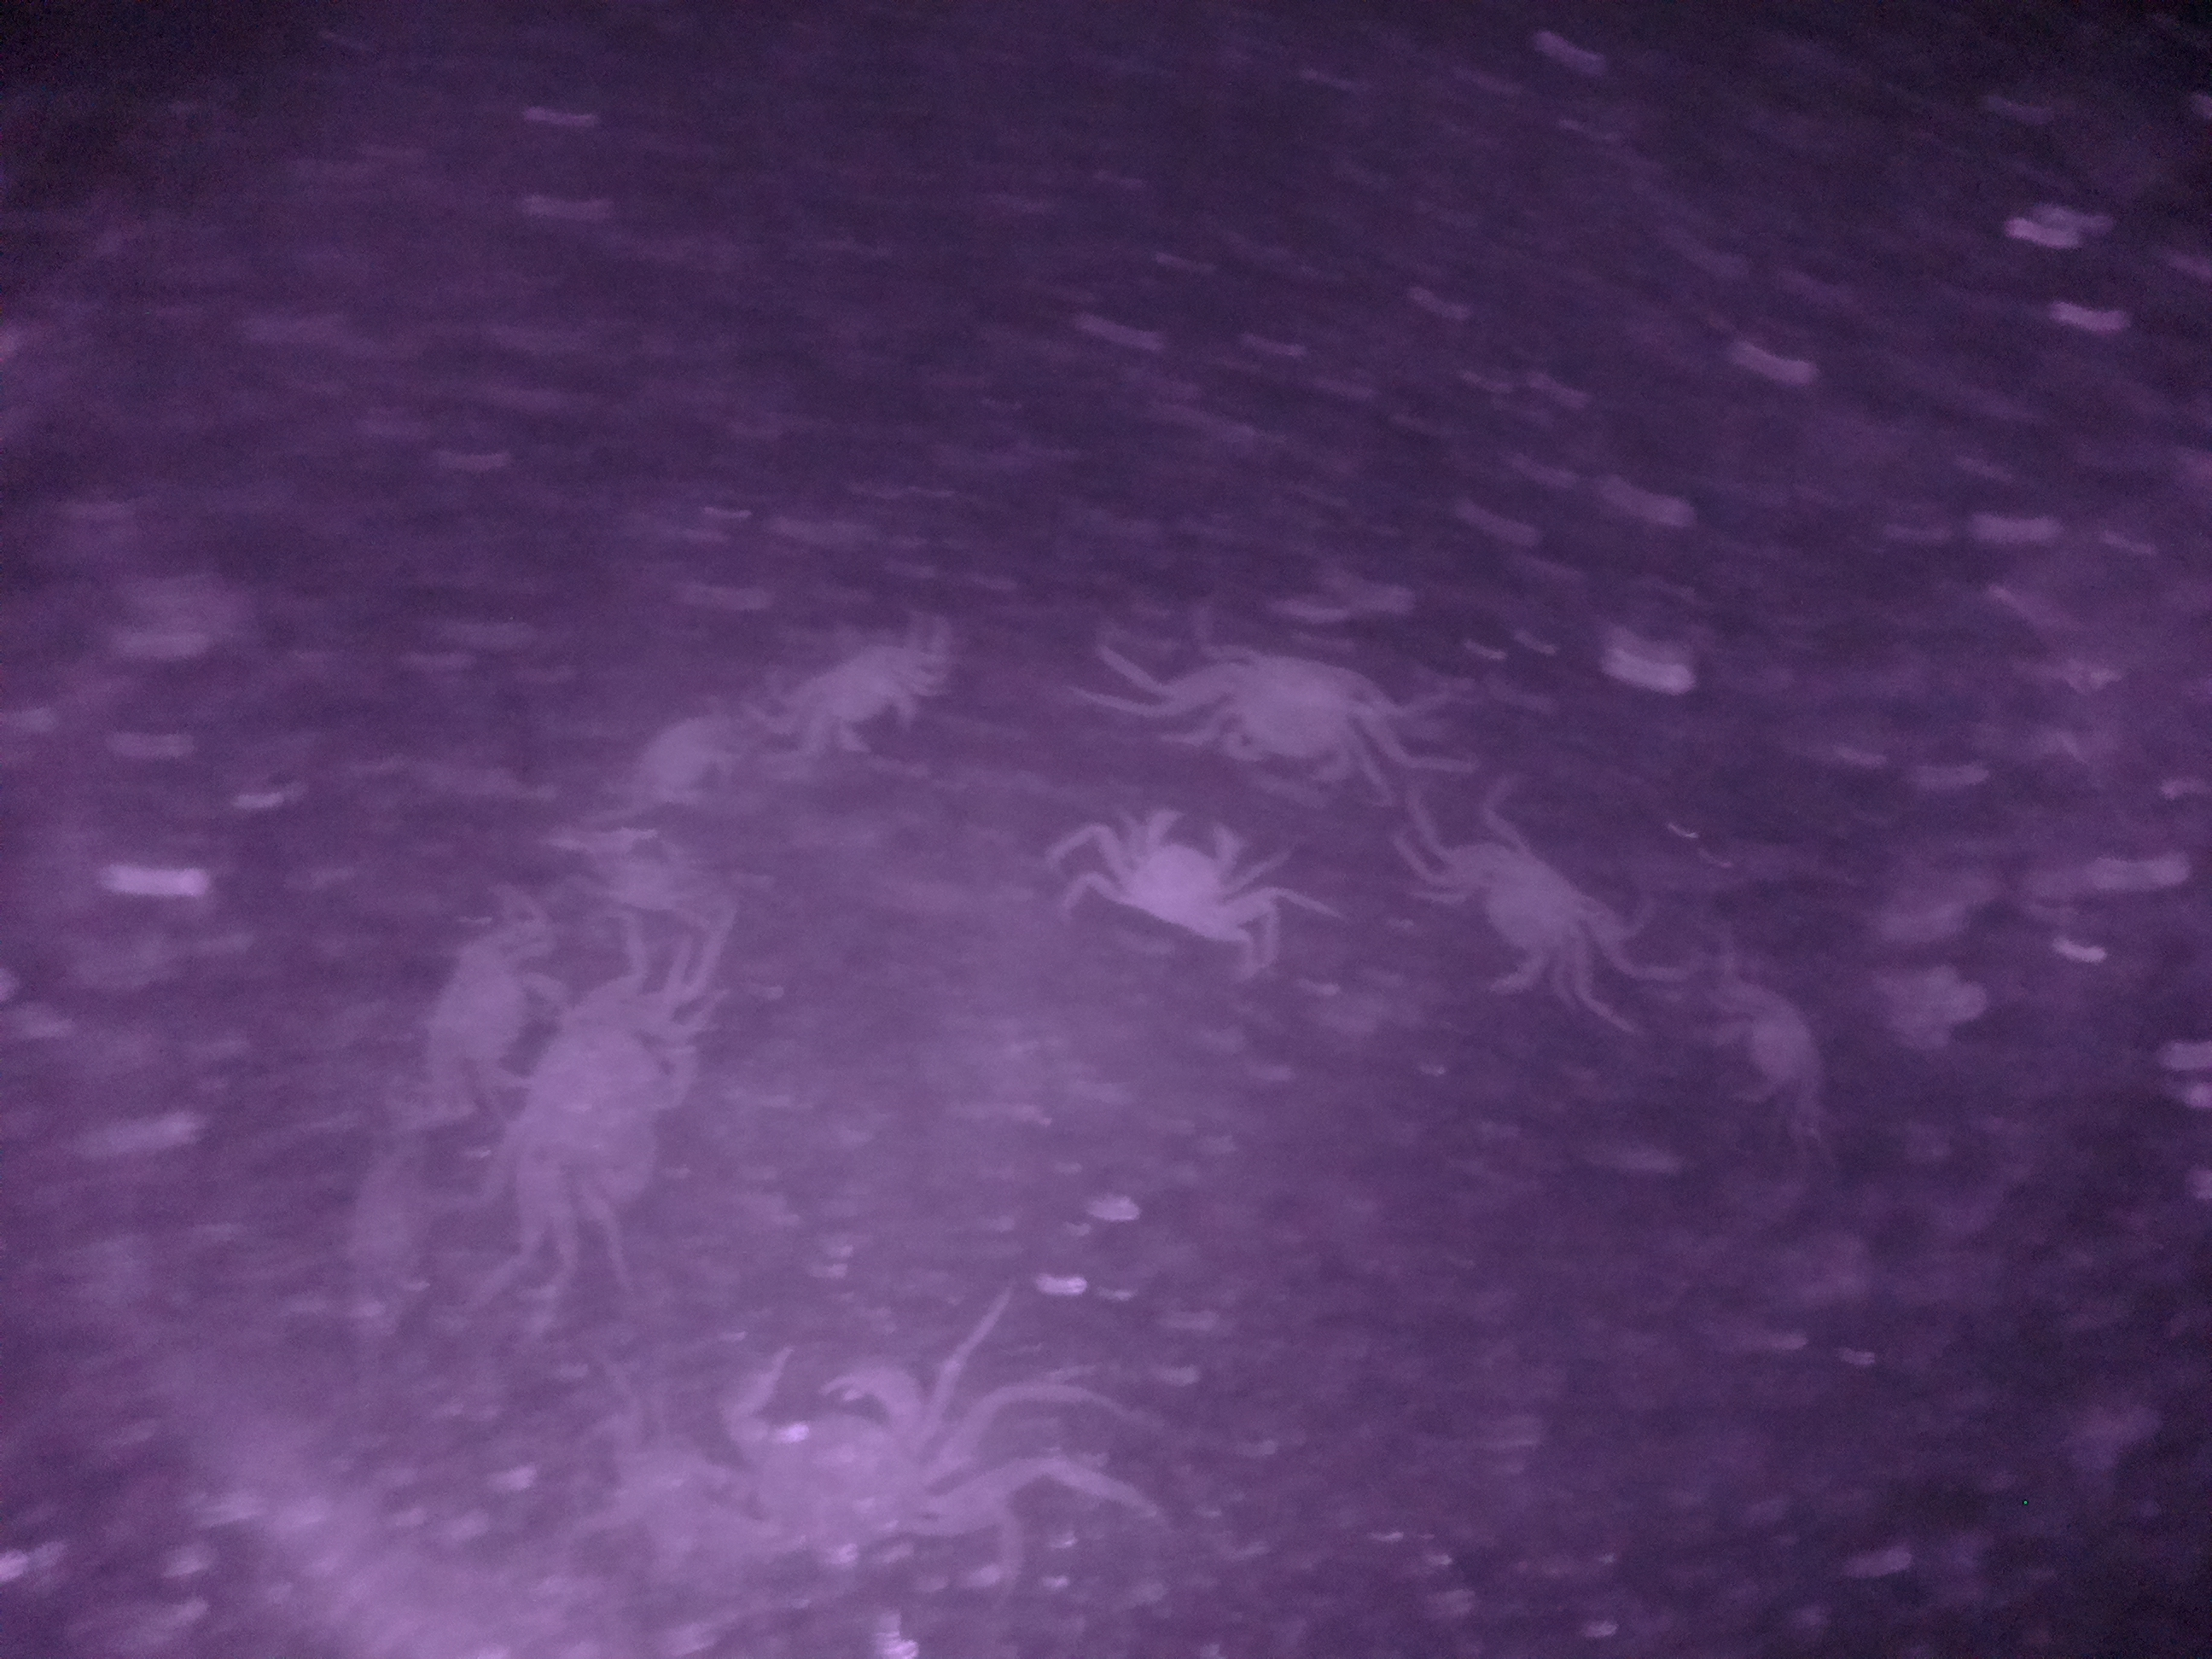Crab: (1090, 786, 1273, 955)
